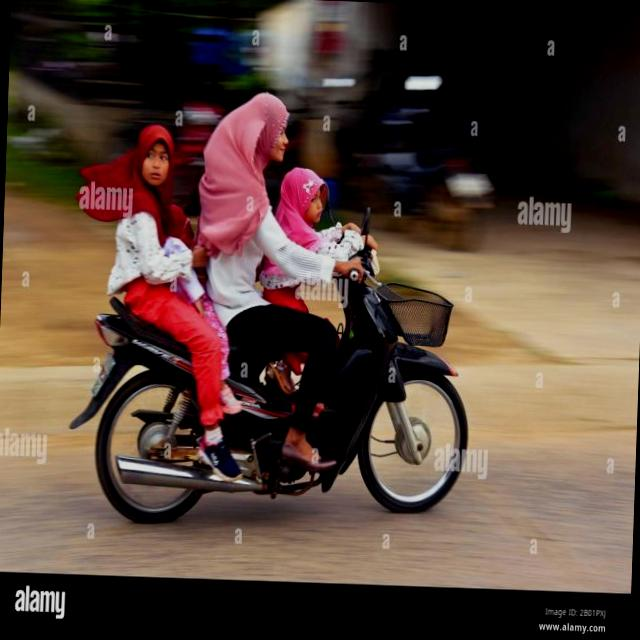motorcycle: (73, 226, 484, 538)
person: (102, 107, 280, 460), (190, 78, 370, 407), (256, 157, 387, 405)
rider_region: (58, 86, 489, 528)
